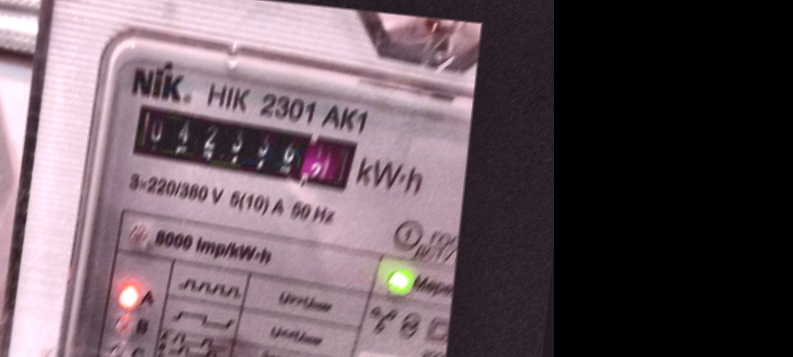0: (148, 113, 164, 144)
2: (200, 121, 221, 150)
3: (227, 124, 246, 154), (256, 128, 272, 157)
4: (174, 117, 193, 146)
6: (280, 136, 298, 165)
screen: (120, 94, 367, 200)
